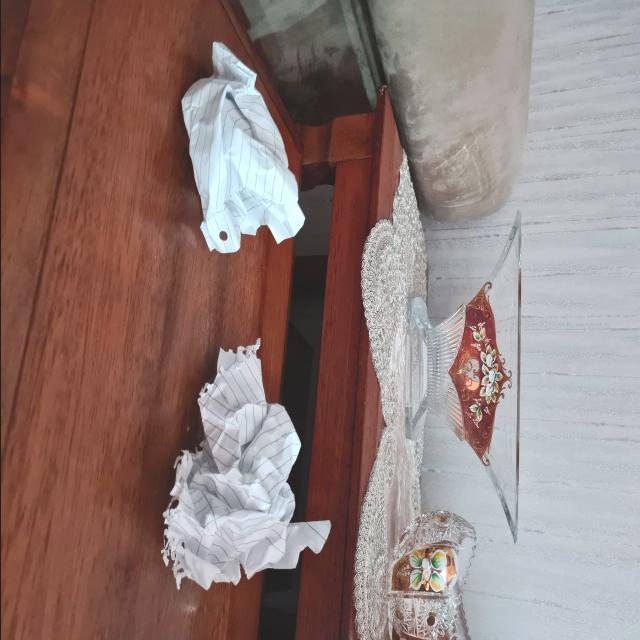Paper: (154, 345, 320, 591), (173, 31, 314, 258)
